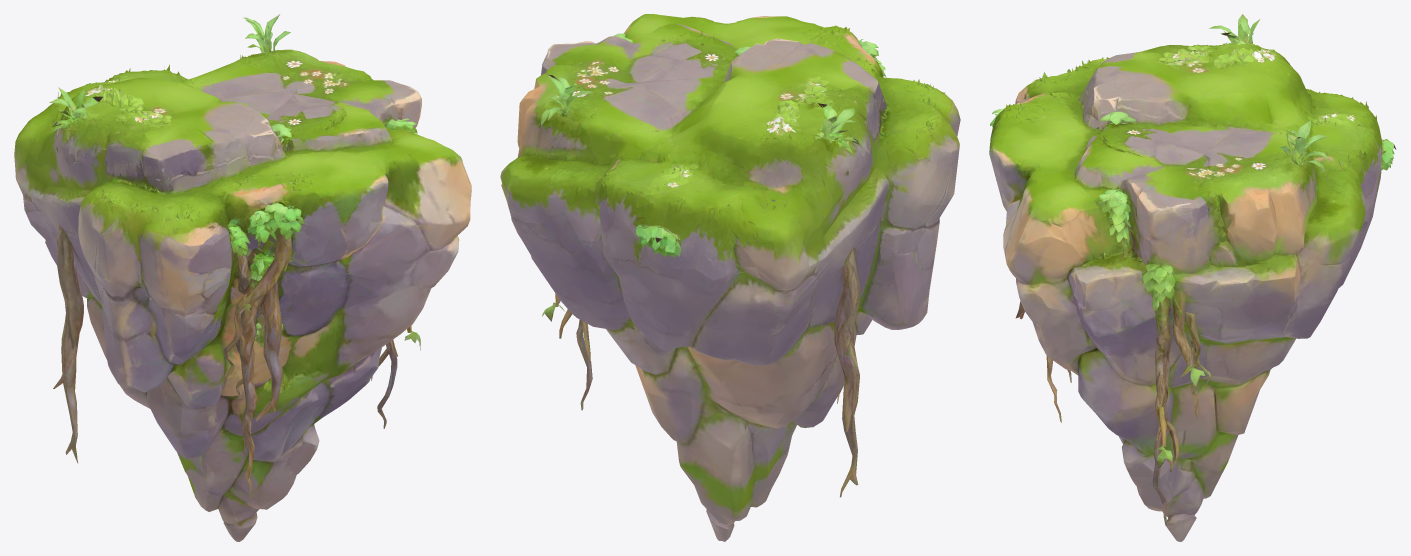
File: islandSmall.glb
3 views of the same model, side by side, from view 1: azimuth 30°, elevation 25°; view 2: azimuth 150°, elevation 25°; view 3: azimuth 270°, elevation 25° (orthographic). The views are drawn at different scales.
Visible parts, largest first — view 1: Mesh_0; view 2: Mesh_0; view 3: Mesh_0.
Boxes of the visible parts, x1,y1,x2,y2 form: Mesh_0: [14, 14, 471, 541]; Mesh_0: [500, 14, 960, 541]; Mesh_0: [989, 14, 1396, 541].
Bounding box in the file's own units: 1.54 × 1.89 × 1.53.
1 material, 1 textured.
